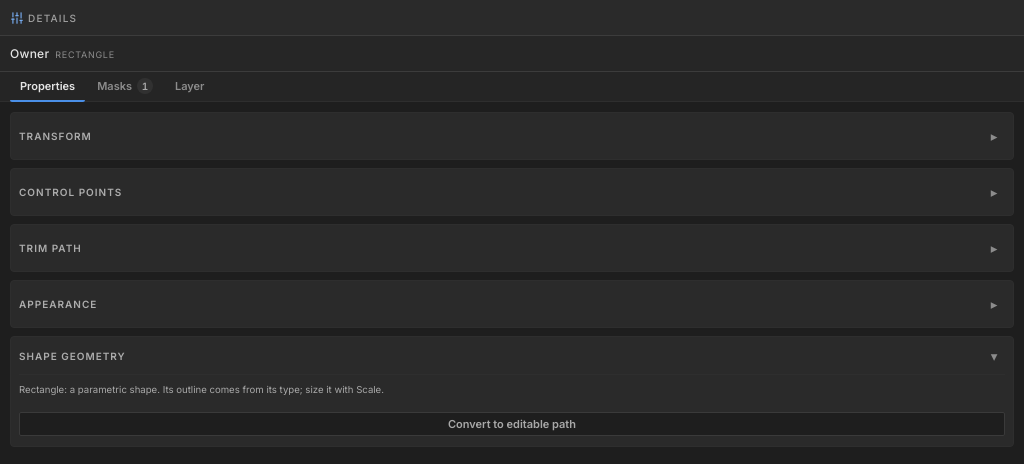
Test case: C7 Details tabs › puts every section on exactly one tab
The width and height of the screenshot is (1024, 464).
Press the mouse on the tab "Properties": (48, 87) [10,72,85,102]
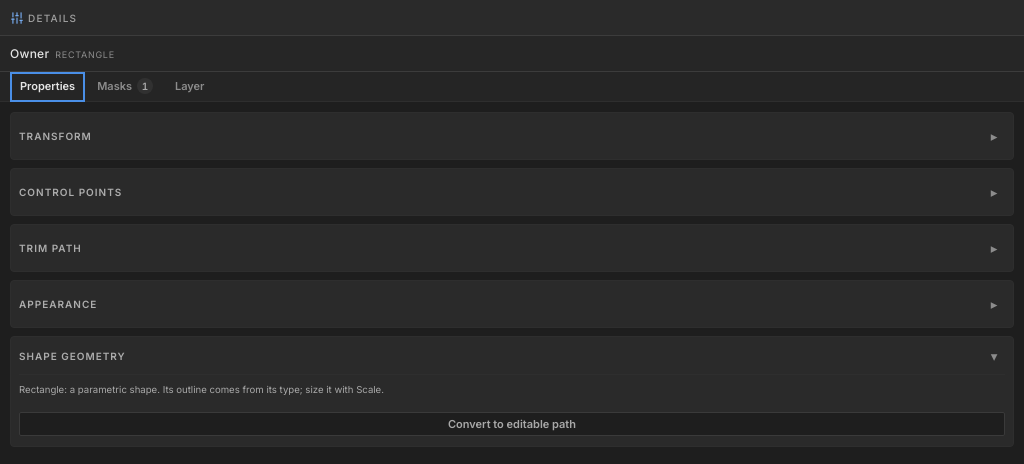
expect the text "TRANSFORM" is shown: met, box [19,130,92,142]
expect the text "LAYER MASKS" is not shown: met
Press the mouse on the tab "Masks 1": (125, 87) [87,72,163,102]
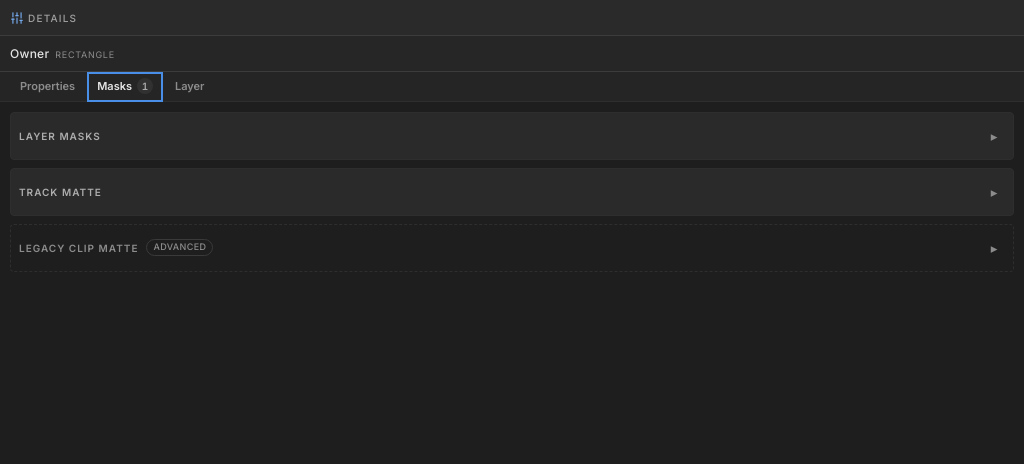
Press the mouse on the tab "Layer": (190, 87) [165,72,214,102]
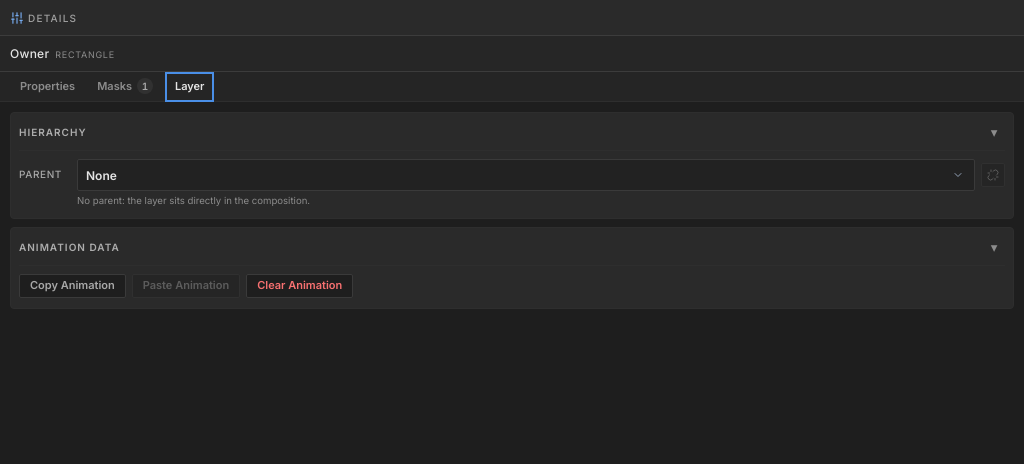
expect the dropdown labelled "Parent" is shown: met, box [77,159,975,191]
